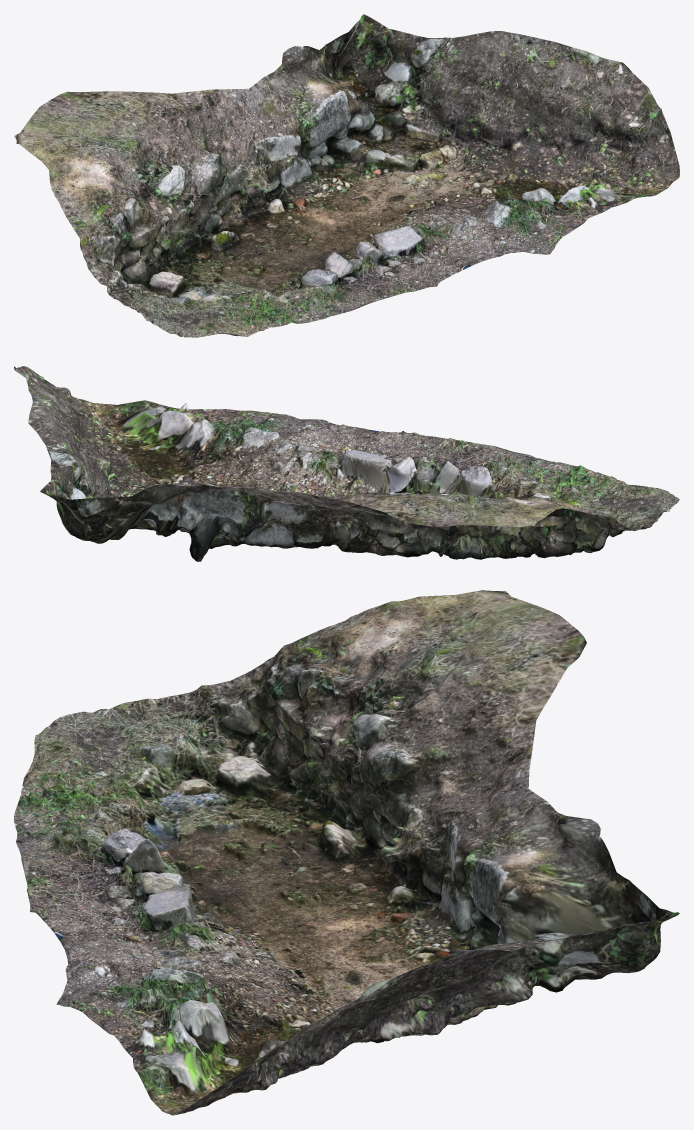
File: laghetto-optimized.glb
3 views of the same model, one above another, from view 1: azimuth 30°, elevation 25°; view 2: azimuth 150°, elevation 25°; view 3: azimuth 270°, elevation 25° (orthographic). The views are drawn at different scales.
Visible parts, largest first — view 1: 3DModel; view 2: 3DModel; view 3: 3DModel.
Boxes of the visible parts, x1,y1,x2,y2 form: 3DModel: (14, 14, 679, 337); 3DModel: (14, 366, 679, 561); 3DModel: (14, 590, 679, 1115).
Bounding box in the file's own units: 90272 × 16816 × 62047.
Materials: 1 (1 with a texture image).
